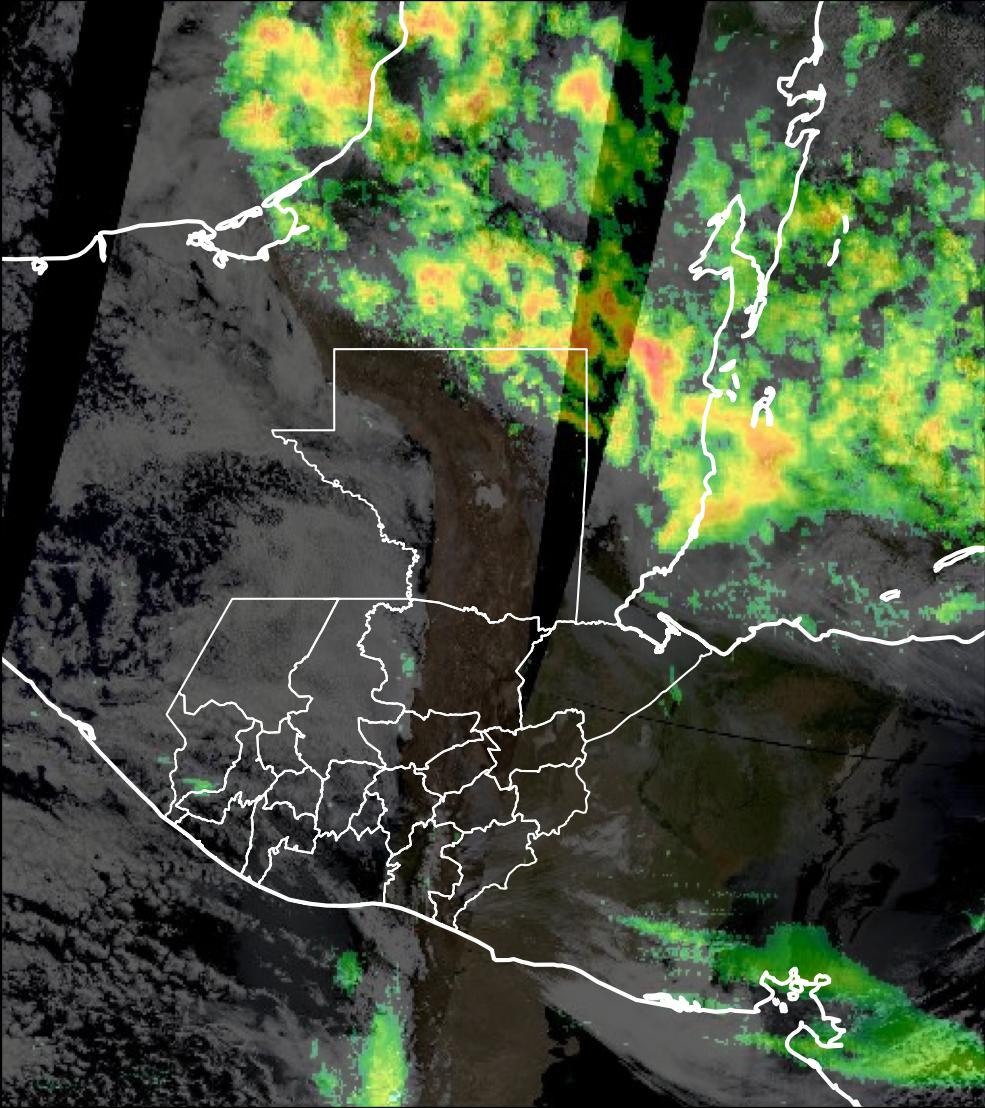precipitacion: (599, 277, 700, 446)
